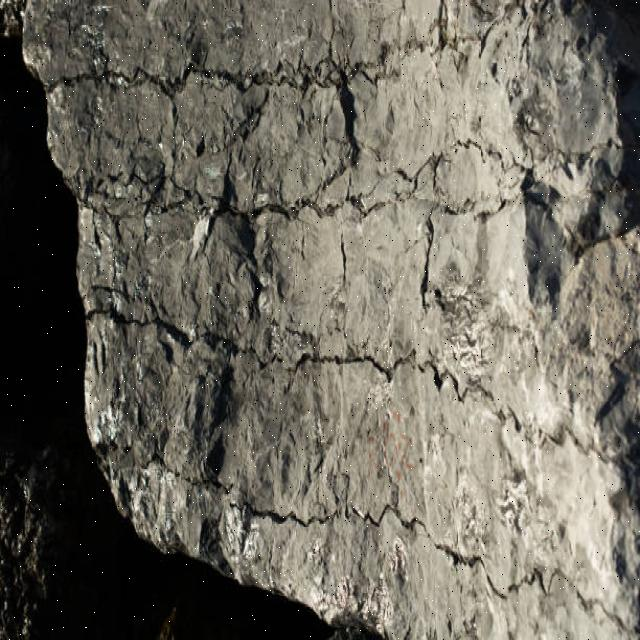Sedimentary: (14, 1, 640, 635)
